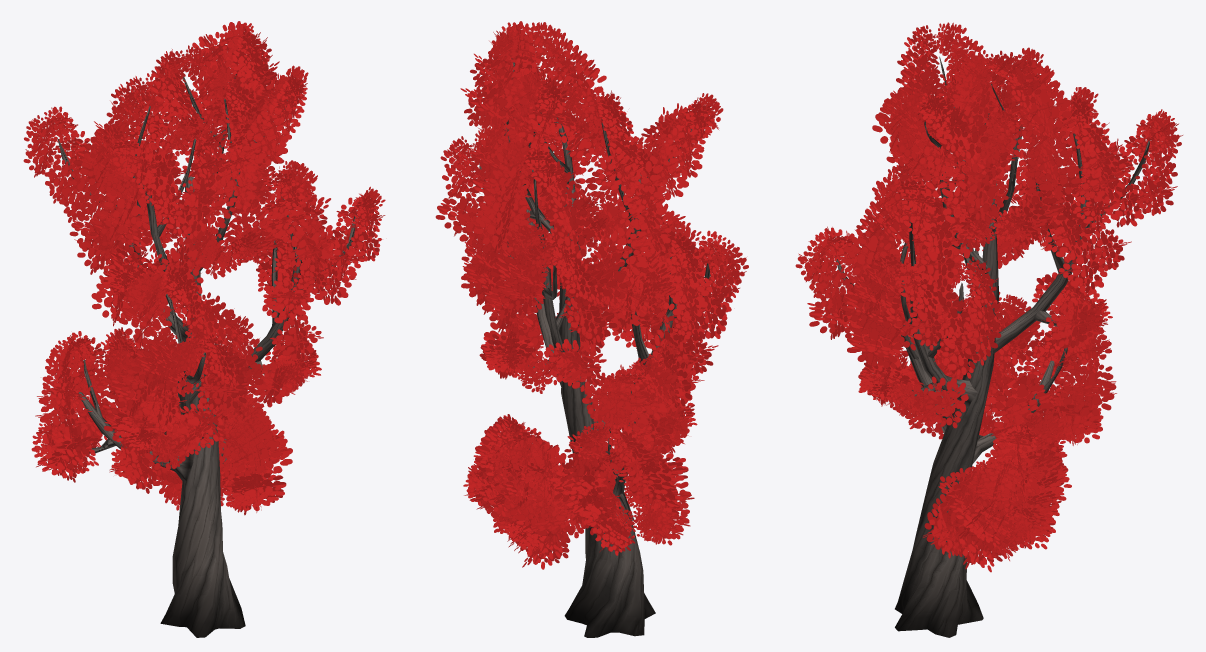
The model's file is TwistedTree_4.glb.
3 views of the same model, side by side, from view 1: azimuth 30°, elevation 25°; view 2: azimuth 150°, elevation 25°; view 3: azimuth 270°, elevation 25° (orthographic). The views are drawn at different scales.
Size of the model in its own units: 10.38 by 18.74 by 11.29.
Materials: 2 (2 with a texture image).
